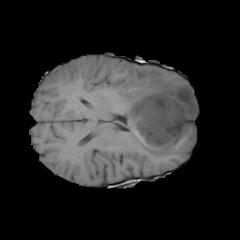glioma: (115, 67, 196, 157)
